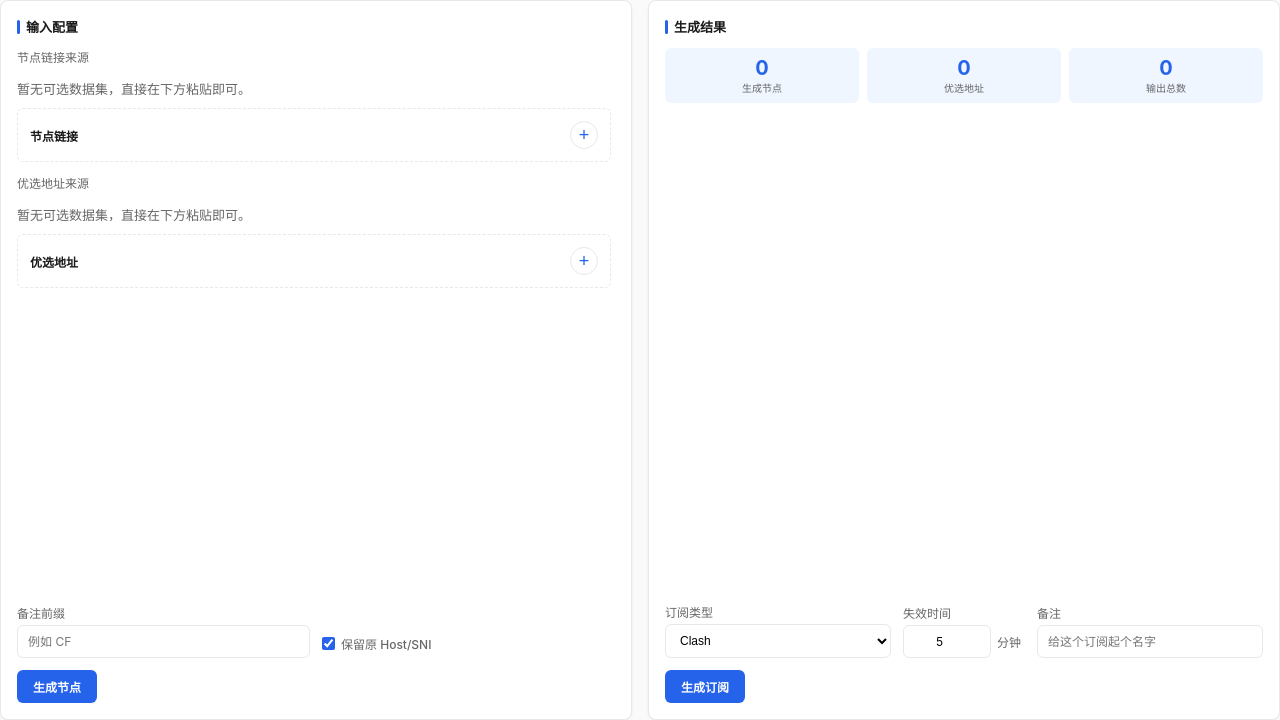
Test case: home page › keeps manual inputs hidden until the add button is clicked
The width and height of the screenshot is (1280, 720).
Check: the field labelled "节点链接 1" is not shown
Check: the field labelled "优选地址 1" is not shown
Click the button named "新增节点链接输入" at (584, 135), box [570, 121, 598, 149]
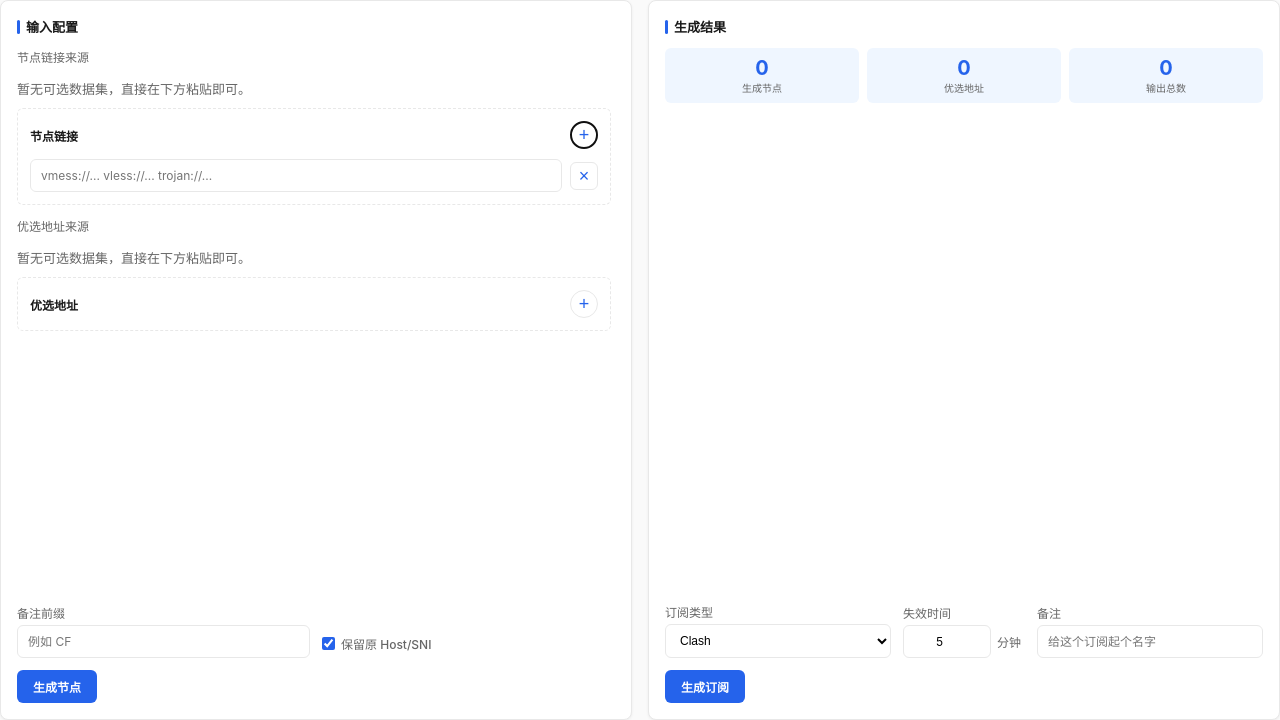
Click the button named "新增优选地址输入" at (584, 304), box [570, 290, 598, 318]
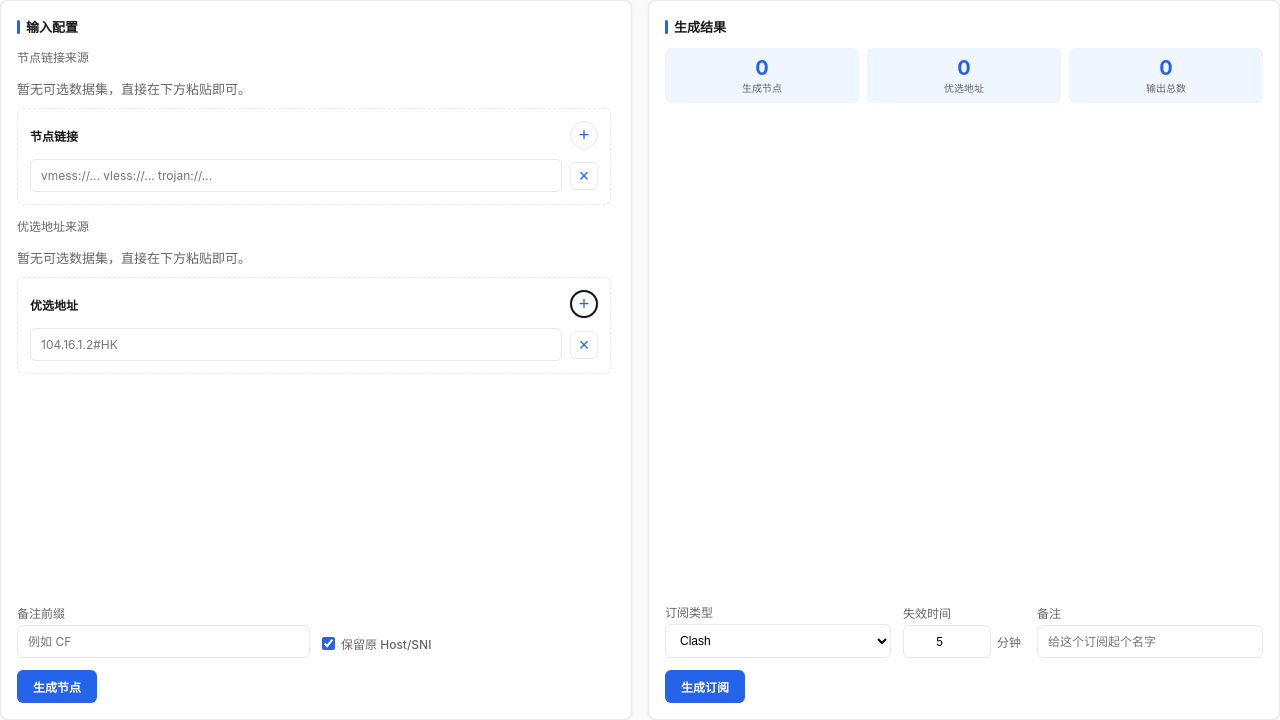
Check: the field named "节点链接 1" is shown, box [30, 159, 562, 192]
Check: the field named "优选地址 1" is shown, box [30, 328, 562, 361]
